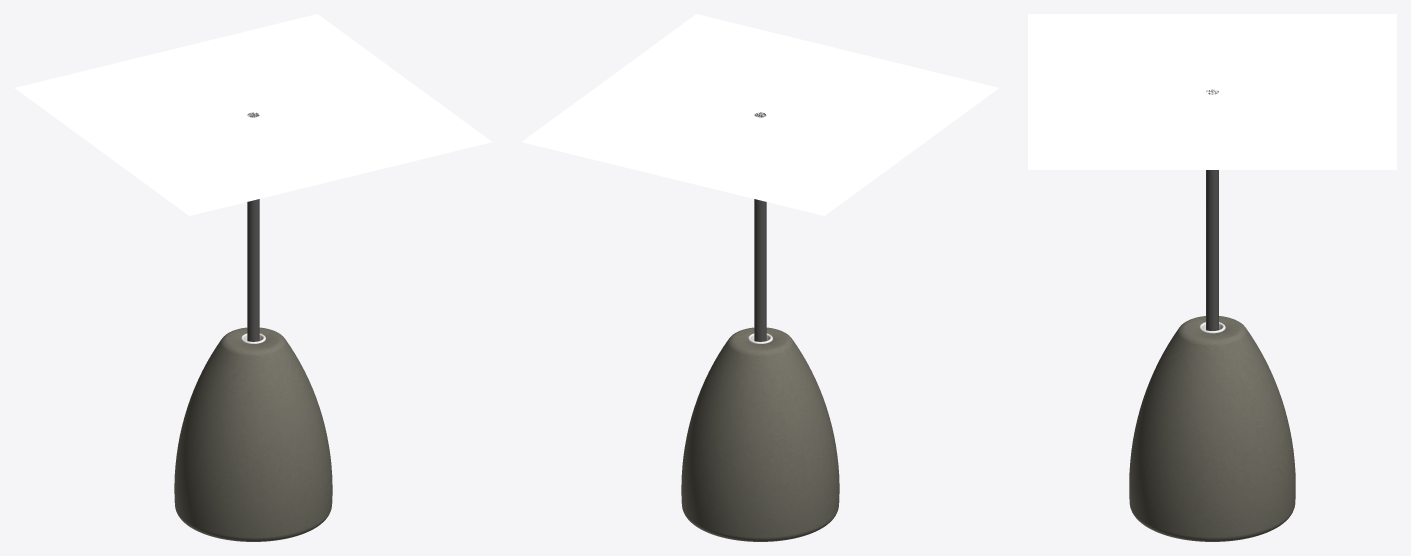
The model's file is ved.glb.
3 renders of one model, left to right at view 1: azimuth 30°, elevation 25°; view 2: azimuth 150°, elevation 25°; view 3: azimuth 270°, elevation 25°, orthographic. The views are drawn at different scales.
Parts seen in each view (by area): view 1: Holo; view 2: Holo; view 3: Holo.
Boxes of the visible parts, bbox=[...] form: Holo: bbox=[15, 14, 491, 541]; Holo: bbox=[522, 14, 998, 541]; Holo: bbox=[1028, 14, 1396, 541].
Size of the model in its own units: 0.2023 by 0.2528 by 0.2023.
6 materials, 2 textured.
